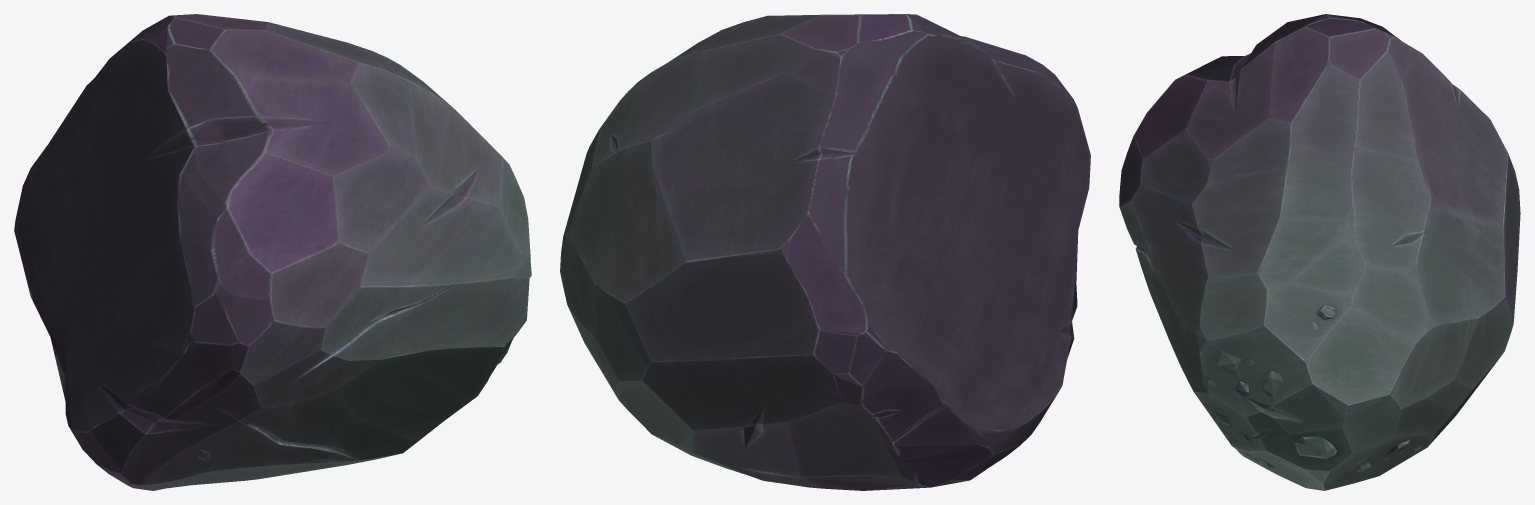
Rendered from ROCK.fbx.
3 renders of one model, left to right at view 1: azimuth 30°, elevation 25°; view 2: azimuth 150°, elevation 25°; view 3: azimuth 270°, elevation 25°, orthographic. The views are drawn at different scales.
Parts seen in each view (by area): view 1: Group34070; view 2: Group34070; view 3: Group34070.
Boxes of the visible parts, box(x1,y1,x2,y2) form: Group34070: box(14, 14, 531, 490); Group34070: box(560, 14, 1090, 490); Group34070: box(1119, 14, 1520, 490).
Size of the model in its own units: 12.81 by 12.67 by 11.6.
